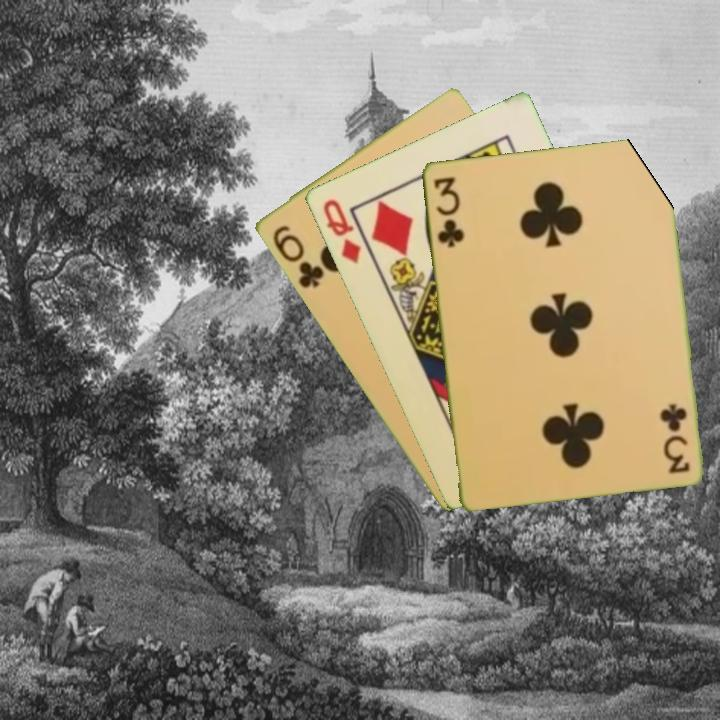3c: (430, 173, 467, 250), (659, 399, 692, 476)
6c: (268, 221, 327, 291)
Qd: (319, 195, 364, 267)
